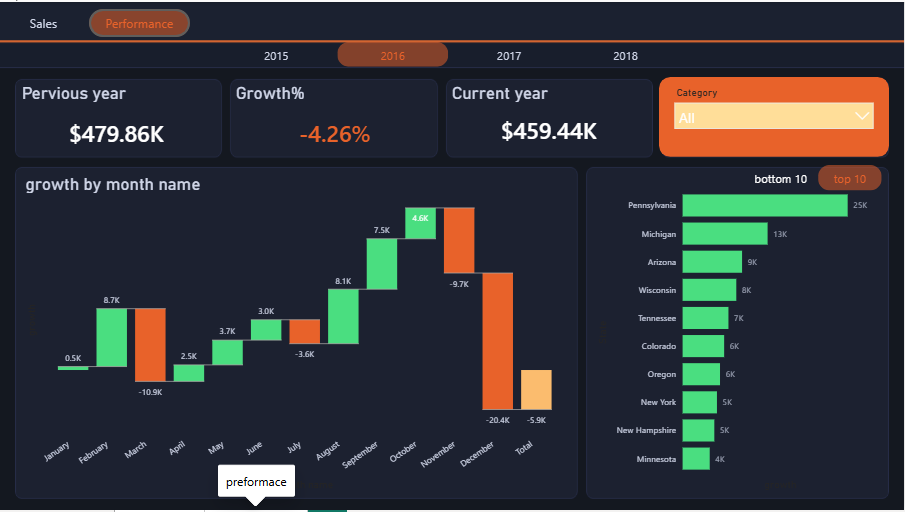

What the dashboard file says about the page in this screenshot:
{"tool":"powerbi","page":{"name":"preformace","canvas":[1280,720],"ordinal":1},"visuals":[{"type":"shape","box":[934,106.3,326,113.4],"z":0,"group":"g1"},{"type":"cardVisual","title":"Pervious year","fields":{"Data":["__Measures.PYTD_Sales"]},"box":[31.2,114.8,267.9,104.9],"z":1000},{"type":"cardVisual","title":"Current year","fields":{"Data":["__Measures.YTD_Sales"]},"box":[640.6,114.8,275,96.4],"z":2000},{"type":"advancedSlicerVisual","fields":{"Values":["data.Year"]},"box":[313.2,57,653.4,35.4],"z":3000},{"type":"cardVisual","title":"Growth%","fields":{"Data":["__Measures.revenue_growth"]},"box":[334.5,114.8,280.6,104.9],"z":4000},{"type":"waterfallChart","title":"Growth by month ","fields":{"Category":["data.month name","data.Month"],"Y":["__Measures.growth"]},"box":[31.2,243.8,778.1,453.5],"z":5000},{"type":"actionButton","box":[11.3,9.9,100.6,39.7],"z":6000},{"type":"actionButton","box":[126.1,9.9,143.1,39.7],"z":7000},{"type":"slicer","title":"Gategory","fields":{"Values":["Products.Category"]},"box":[938.2,108.7,304.7,102],"z":8000,"group":"g1"},{"type":"clusteredBarChart","fields":{"Category":["location.State"],"Y":["__Measures.growth"]},"box":[840.5,243.8,409.6,453.5],"z":9000},{"type":"group","id":"g1","title":"Group 1","box":[934,106.3,326,113.4],"z":10001},{"type":"advancedSlicerVisual","fields":{"Values":["top vs bottom.top vs bottom"]},"box":[1060.2,243.8,189.9,36.9],"z":10501}]}

Visuals, with their boxes in screenshot pixels (x1, y1, x2, y2), scaled from the page's 1280x720 canvas onto the 905x512 screenshot:
shape: Rect(660, 76, 891, 156)
"Pervious year" cardVisual: Rect(22, 82, 211, 156)
"Current year" cardVisual: Rect(453, 82, 647, 150)
advancedSlicerVisual - data.Year: Rect(221, 41, 683, 66)
"Growth%" cardVisual: Rect(237, 82, 435, 156)
"Growth by month " waterfallChart: Rect(22, 173, 572, 496)
actionButton: Rect(8, 7, 79, 35)
actionButton: Rect(89, 7, 190, 35)
"Gategory" slicer: Rect(663, 77, 879, 150)
clusteredBarChart - location.State x __Measures.growth: Rect(594, 173, 884, 496)
"Group 1" group: Rect(660, 76, 891, 156)
advancedSlicerVisual - top vs bottom.top vs bottom: Rect(750, 173, 884, 200)
